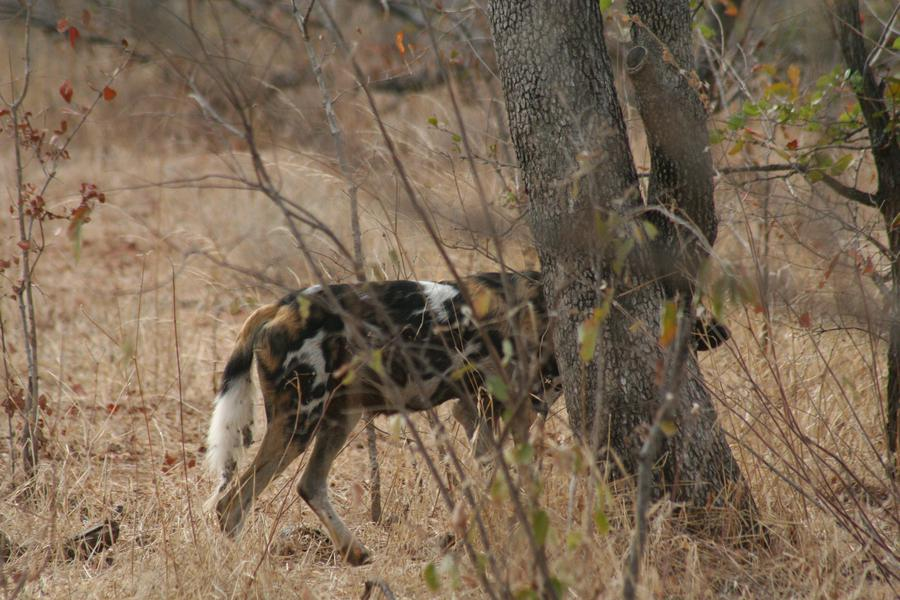wilddog: (209, 266, 527, 513)
